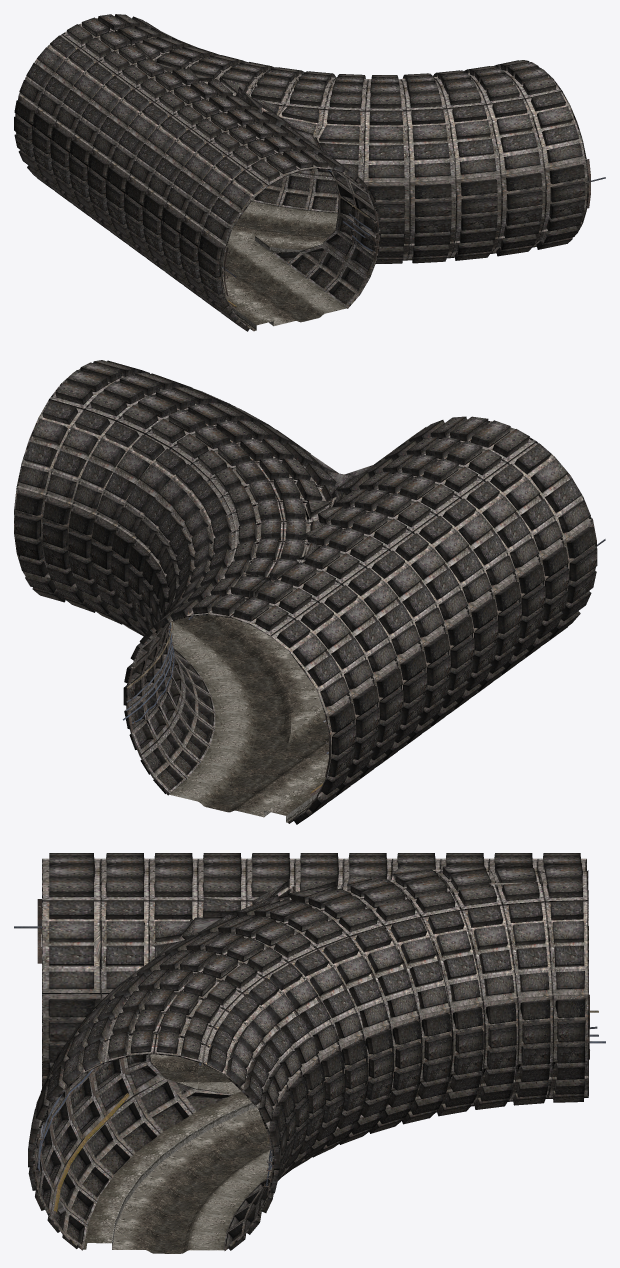
The model's file is tunnel_zelezo_double.obj.
3 views of the same model, one above another, from view 1: azimuth 30°, elevation 25°; view 2: azimuth 150°, elevation 25°; view 3: azimuth 270°, elevation 25° (orthographic). The views are drawn at different scales.
Parts seen in each view (by area): view 1: concrete34_opalubka_tunnel_ao025, floor_tunnel_pod033, metal_corr_dsc013; view 2: concrete34_opalubka_tunnel_ao025, floor_tunnel_pod033, metal_trub_tonnel015, metal_corr_dsc013; view 3: concrete34_opalubka_tunnel_ao025, floor_tunnel_pod033, metal_trub_tonnel015, metal_corr_dsc013, concrete_opalubka_tunnel007.
Part boxes in pixels (<box>): concrete34_opalubka_tunnel_ao025: <box>14,14,588,331</box>; floor_tunnel_pod033: <box>222,201,495,330</box>; metal_corr_dsc013: <box>223,159,590,296</box>; concrete34_opalubka_tunnel_ao025: <box>14,360,597,824</box>; floor_tunnel_pod033: <box>168,615,328,822</box>; metal_trub_tonnel015: <box>123,539,605,795</box>; metal_corr_dsc013: <box>127,518,596,777</box>; concrete34_opalubka_tunnel_ao025: <box>28,853,589,1250</box>; floor_tunnel_pod033: <box>83,1054,272,1253</box>; metal_trub_tonnel015: <box>14,926,605,1214</box>; metal_corr_dsc013: <box>35,899,589,1195</box>; concrete_opalubka_tunnel007: <box>86,1102,256,1248</box>.
Bounding box in the file's own units: 22.04 × 8.69 × 22.19.
Materials: 5 (5 with a texture image).
